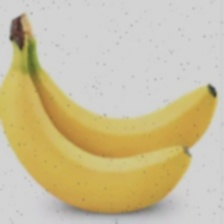banana: (38, 8, 215, 209)
